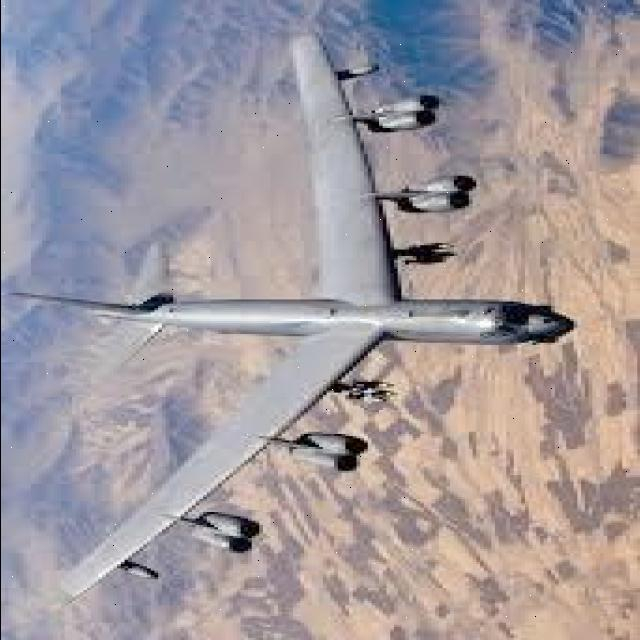B52: (1, 8, 604, 638)
